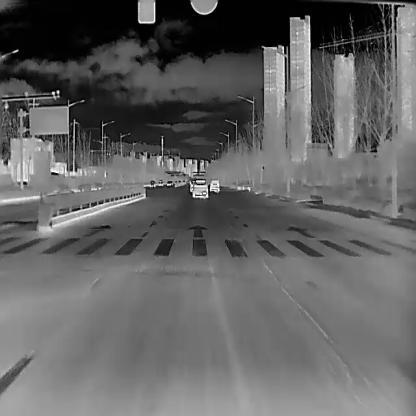car: (191, 176, 207, 197), (209, 178, 219, 192), (149, 179, 156, 187), (166, 179, 171, 186), (158, 178, 162, 186)
